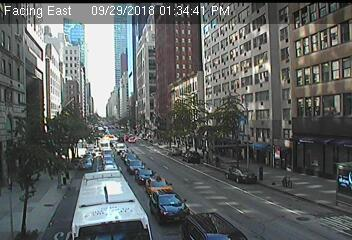car: (73, 172, 150, 240), (181, 214, 245, 240), (150, 189, 191, 223), (225, 167, 257, 185), (145, 177, 173, 196), (134, 167, 155, 184), (126, 159, 145, 172), (182, 152, 200, 164), (102, 164, 120, 176), (123, 153, 141, 165), (101, 154, 114, 166), (79, 159, 92, 169), (167, 147, 179, 156), (82, 153, 93, 161)
